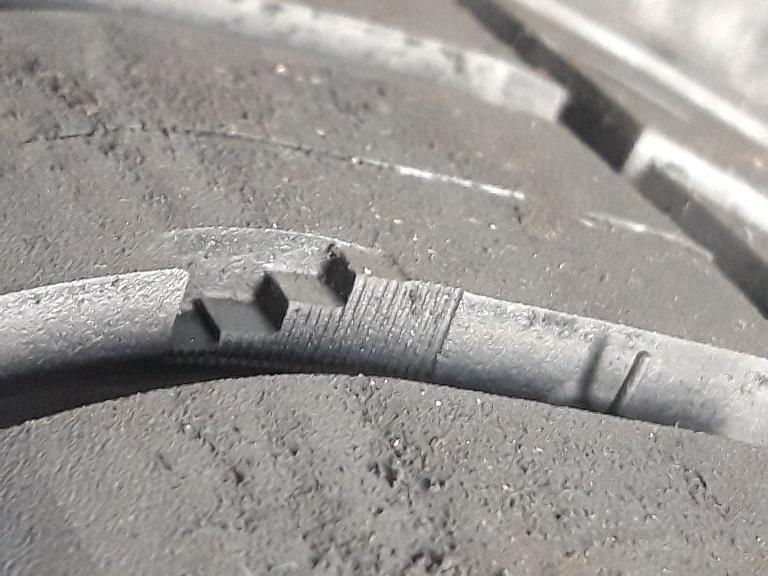temoin:75: (144, 213, 419, 400)
